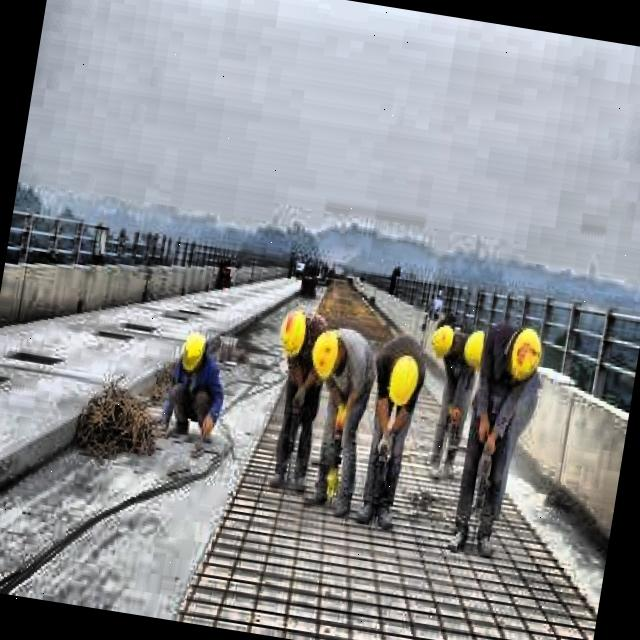helmet: (270, 300, 316, 384), (501, 314, 548, 389), (382, 347, 426, 422), (309, 322, 350, 384), (456, 323, 500, 379), (176, 330, 213, 378), (426, 320, 462, 360)
